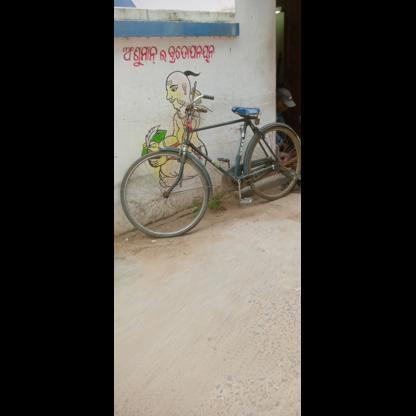Bicycle: (114, 75, 301, 255)
